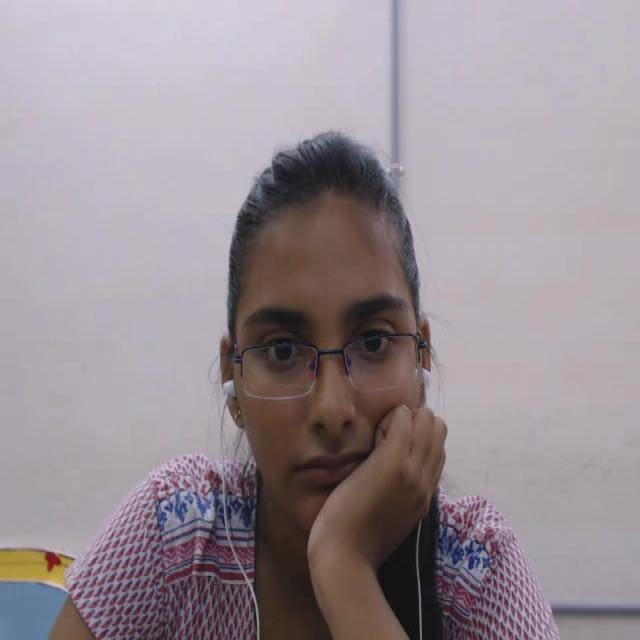Bored: (196, 131, 459, 572)
